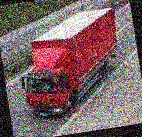truck: (16, 7, 129, 121)
